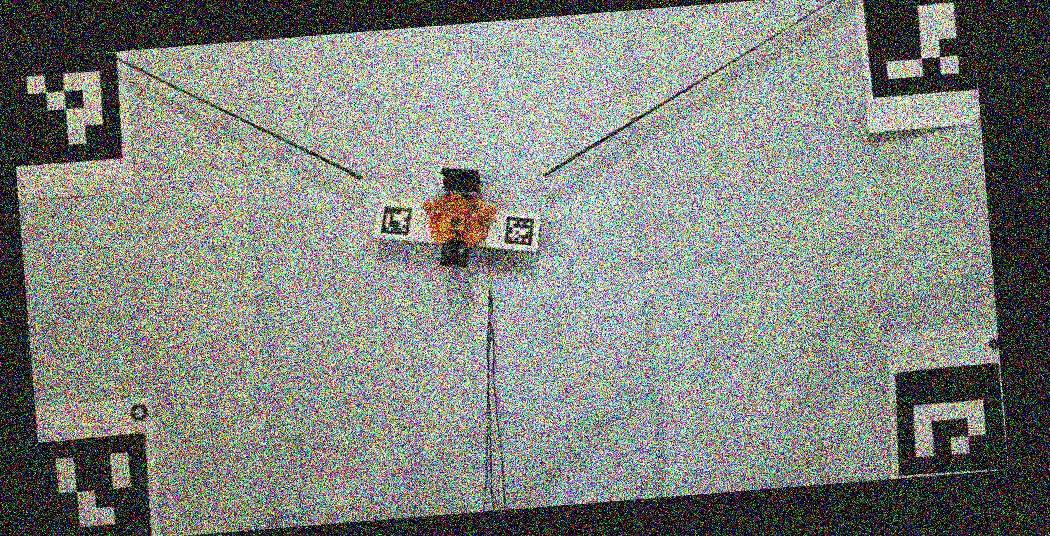robot: (423, 166, 495, 267)
